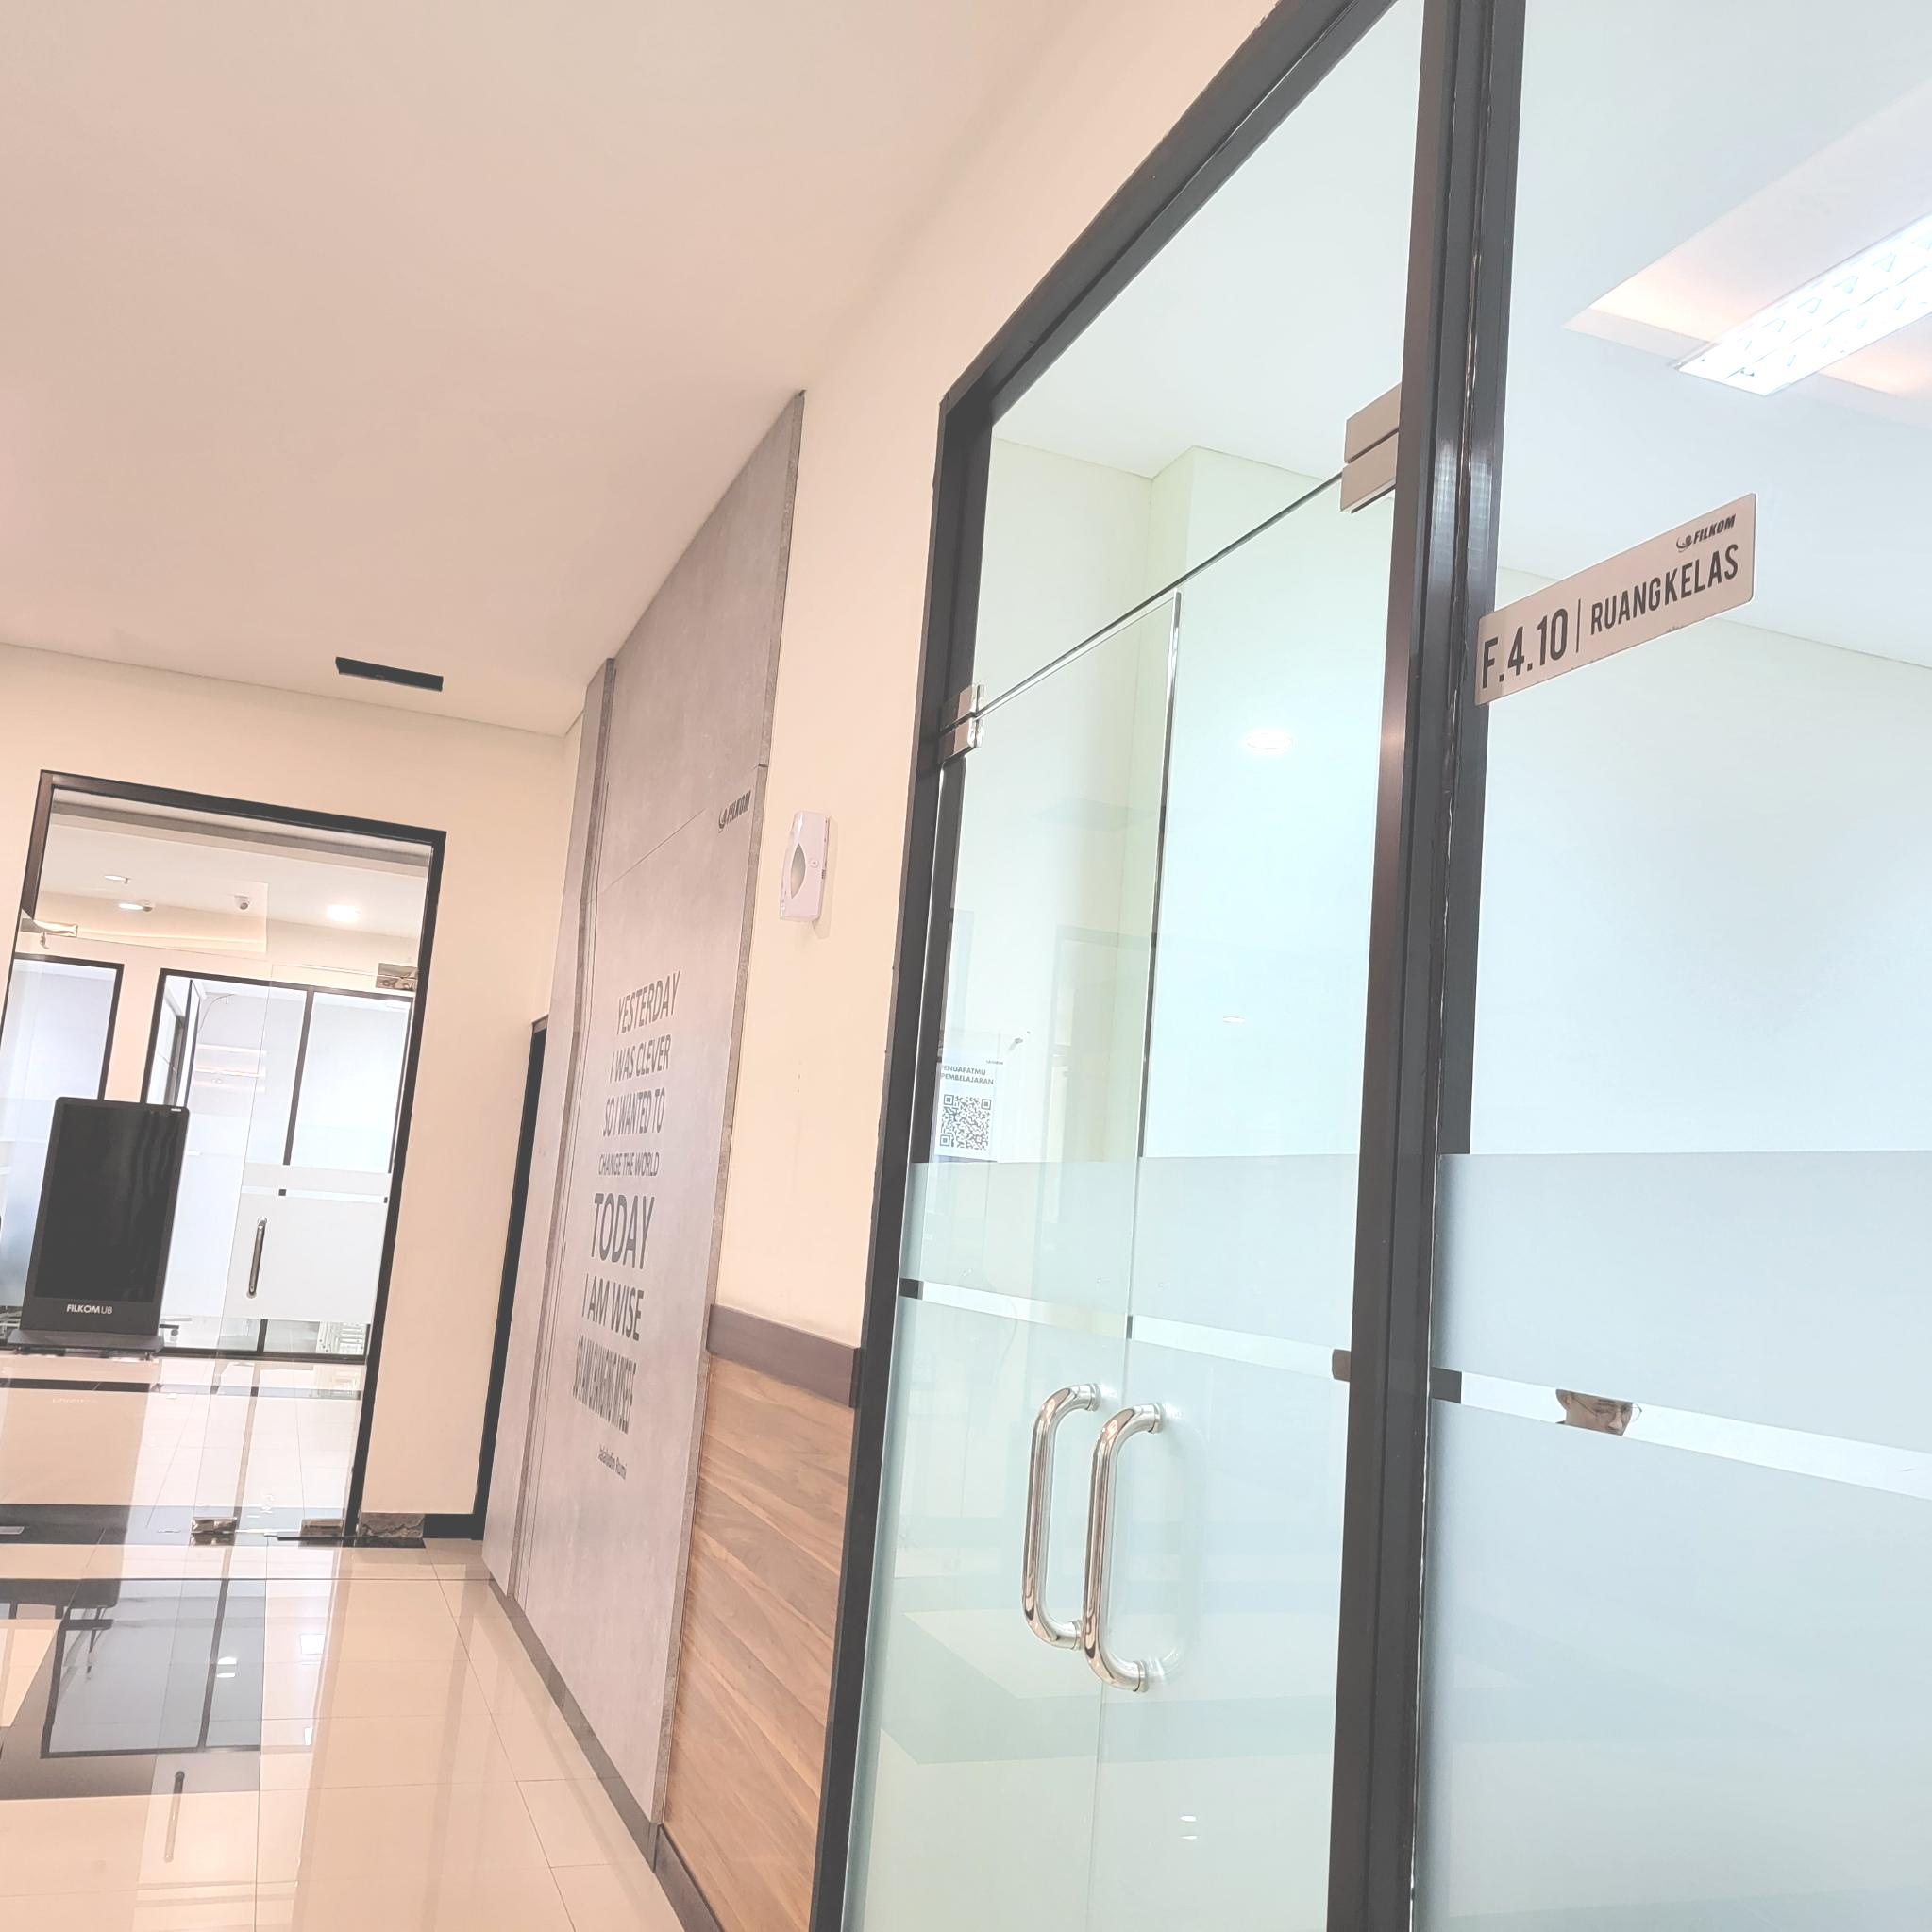plate: (1474, 492, 1757, 708)
